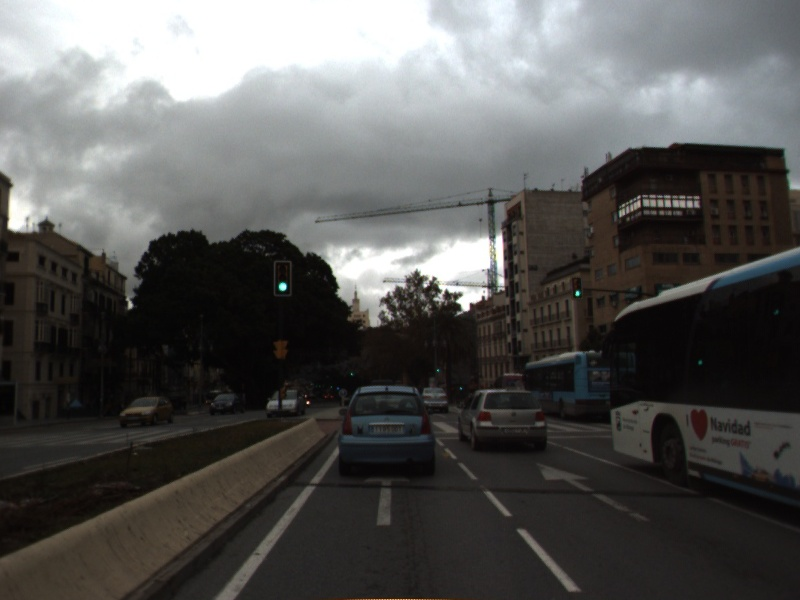STRAIGHT: (534, 460, 653, 525), (361, 474, 412, 527)
